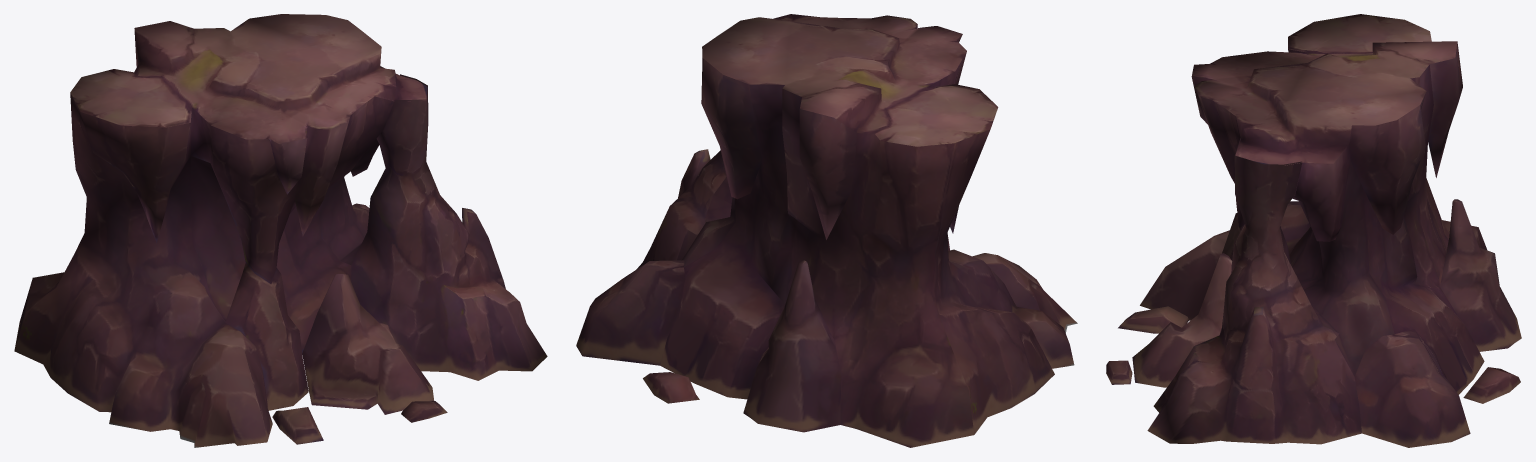
The model's file is shiqiang_01.FBX.
3 renders of one model, left to right at view 1: azimuth 30°, elevation 25°; view 2: azimuth 150°, elevation 25°; view 3: azimuth 270°, elevation 25°, orthographic. The views are drawn at different scales.
Visible parts, largest first — view 1: yxrl_shitou_01; view 2: yxrl_shitou_01; view 3: yxrl_shitou_01.
Part boxes in pixels (x1,y1,x2,y2): yxrl_shitou_01: (14,14,547,447); yxrl_shitou_01: (576,14,1077,447); yxrl_shitou_01: (1106,14,1521,447).
Bounding box in the file's own units: 1213 × 826 × 1105.
